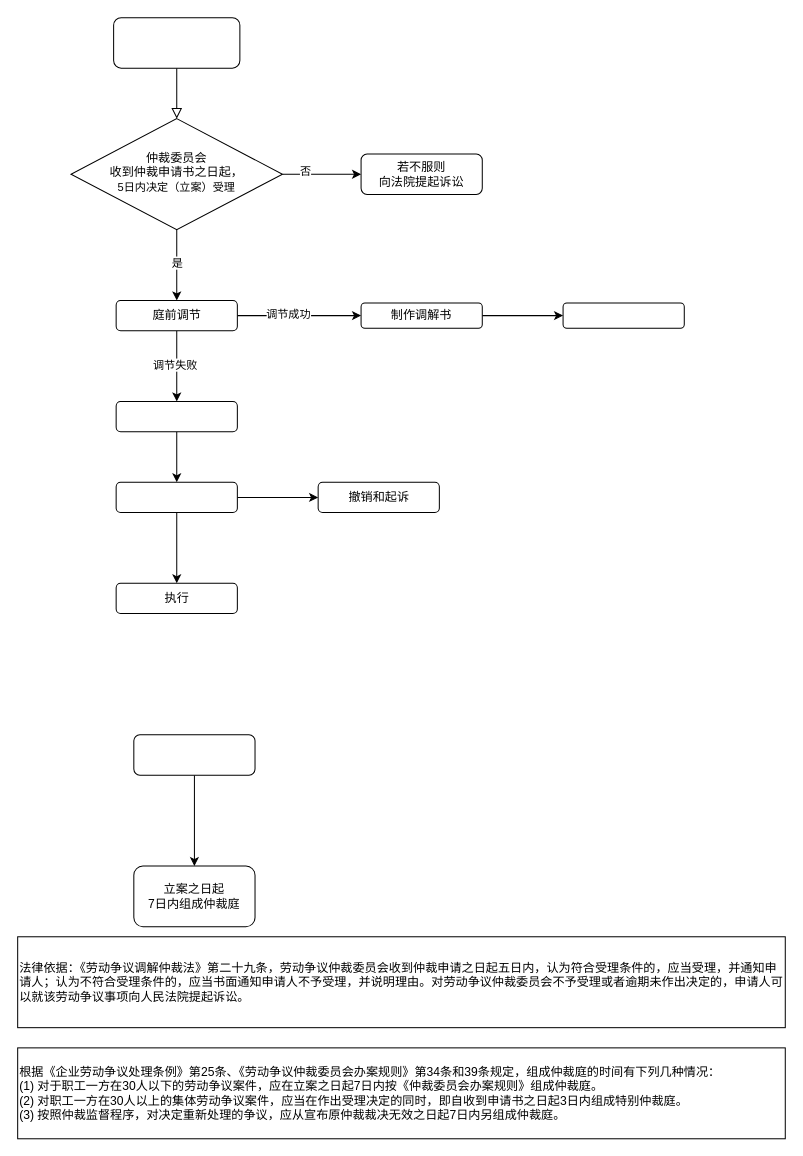
This 803x1156 diagram has some shape labels left out. Here are the shapes that lost their labels. From the top down, the centre of each, then its label:
At point (176, 42): "当事人 发起 仲裁申请".
At point (623, 315): "送达和结案".
At point (176, 416): "开庭受理".
At point (176, 497): "裁决".
At point (194, 754): "是否符合立案条件".
